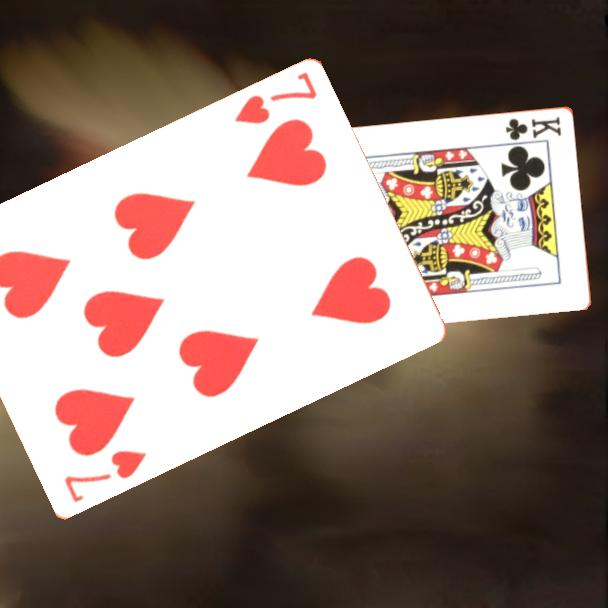c13: (502, 113, 564, 143)
h07: (60, 446, 150, 506), (230, 69, 320, 128)
